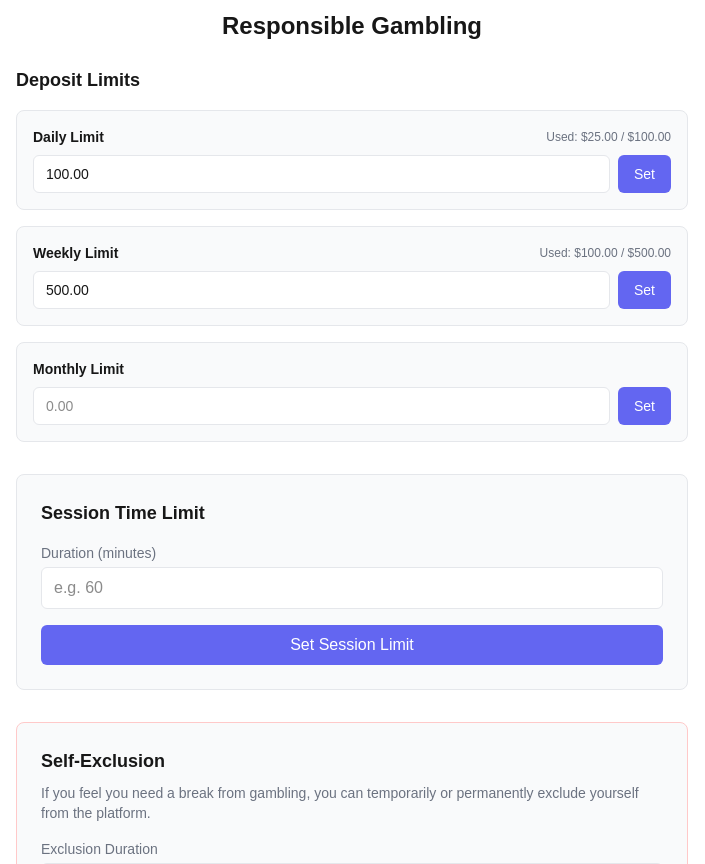
ResponsibleGamblingPage › shows validation error for invalid deposit limit amount
Expected: the heading "Daily Limit" is shown, [33,127,104,147]
// Clear the pre-filled value and submit empty
Clear the number field named "daily deposit limit amount" below "Daily" at (322, 174), box [33,155,610,193]
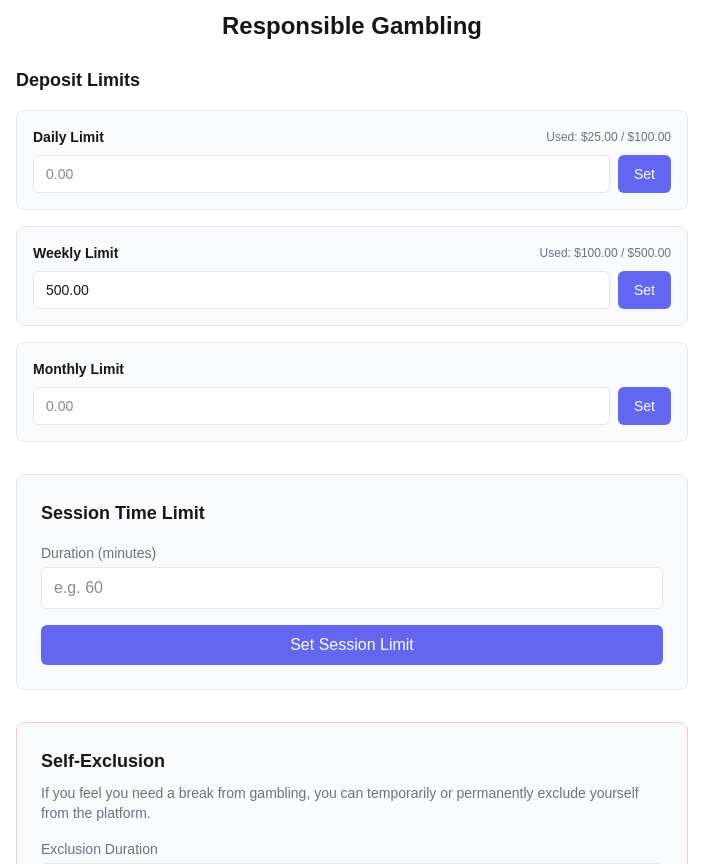
// Find the Set button in the daily limit form
Click the button "Set" below "25.00" at (644, 174), box [618,155,671,193]
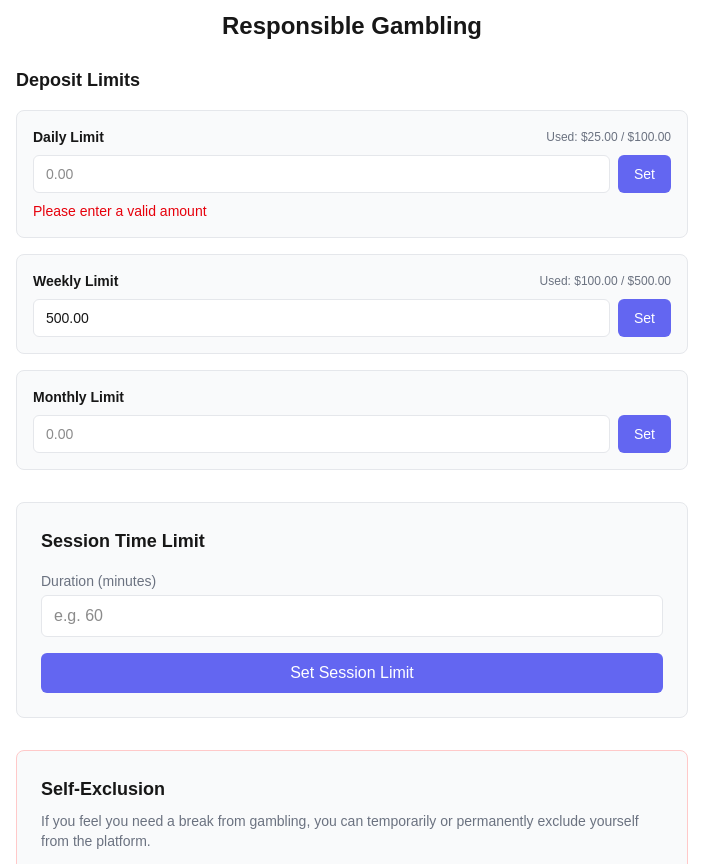
Now the text "Please enter a valid amount" is shown, box [33,203,207,219]
